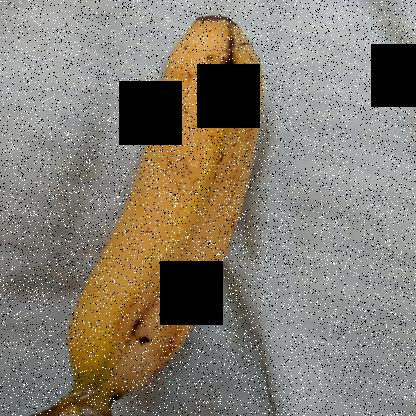ripe: (51, 9, 268, 396)
